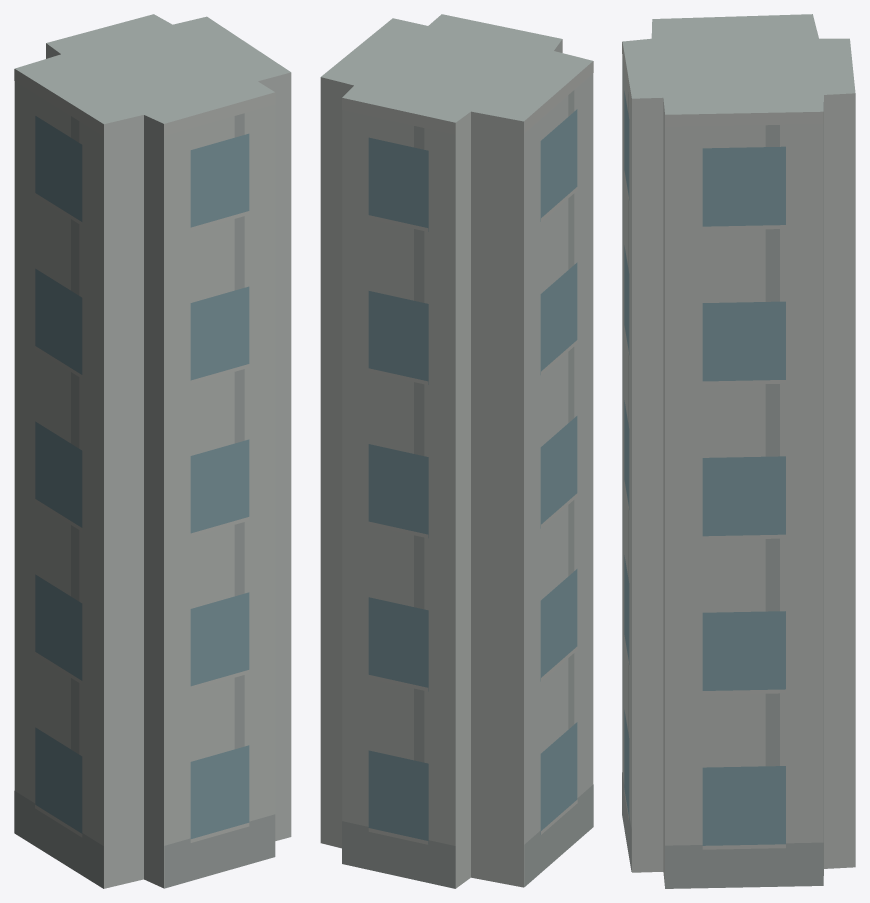
Rendered from survey-upis-32642494.glb.
3 views of the same model, side by side, from view 1: azimuth 30°, elevation 25°; view 2: azimuth 150°, elevation 25°; view 3: azimuth 270°, elevation 25° (orthographic).
Visible parts, largest first — view 1: survey-upis-32642494.tmp; view 2: survey-upis-32642494.tmp; view 3: survey-upis-32642494.tmp.
Part boxes in pixels (left/top/right/bottom): survey-upis-32642494.tmp: left=14, top=14, right=291, bottom=888; survey-upis-32642494.tmp: left=320, top=14, right=593, bottom=888; survey-upis-32642494.tmp: left=622, top=14, right=855, bottom=888.
Bounding box in the file's own units: 4.27 × 15.25 × 4.17.
